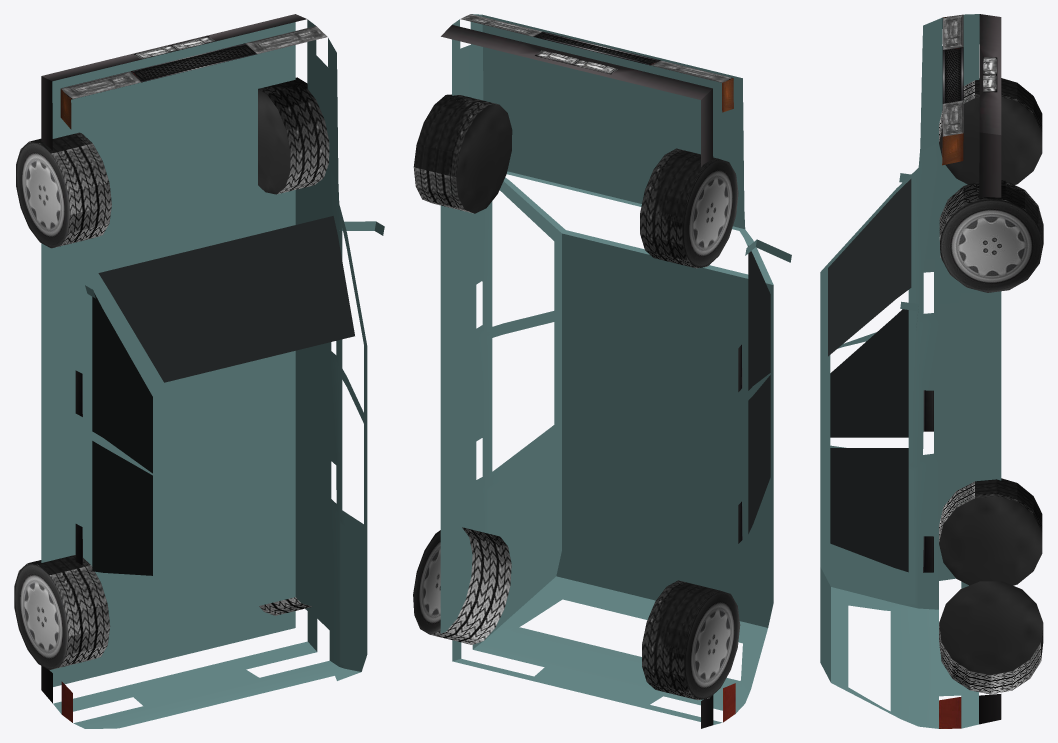
The model's file is stationwagon.gltf.
3 renders of one model, left to right at view 1: azimuth 30°, elevation 25°; view 2: azimuth 150°, elevation 25°; view 3: azimuth 270°, elevation 25°, orthographic. The views are drawn at different scales.
Parts seen in each view (by area): view 1: Body4, WheelRL3, WheelRL006, WheelRL007; view 2: Body4, WheelRL007, WheelRL006, WheelRL3, WheelRL008; view 3: Body4, WheelRL008, WheelRL007, WheelRL006, WheelRL3.
Part boxes in pixels (x1,y1,x2,y2): Body4: [41, 14, 367, 728]; WheelRL3: [16, 132, 111, 248]; WheelRL006: [14, 555, 110, 670]; WheelRL007: [258, 77, 329, 194]; Body4: [440, 14, 773, 728]; WheelRL007: [413, 94, 512, 213]; WheelRL006: [642, 580, 740, 700]; WheelRL3: [640, 148, 738, 268]; WheelRL008: [413, 527, 511, 644]; Body4: [820, 14, 1001, 728]; WheelRL008: [939, 581, 1043, 694]; WheelRL007: [939, 180, 1043, 292]; WheelRL006: [939, 478, 1042, 585]; WheelRL3: [939, 78, 1042, 184].
Bounding box in the file's own units: 0.6992 × 1.28 × 0.4353.
7 materials, 4 textured.
